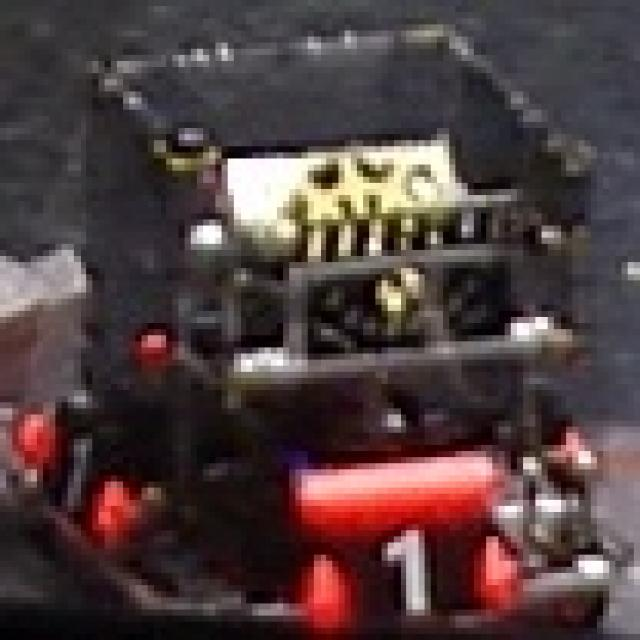R1: (296, 530, 530, 640), (31, 402, 129, 530)
